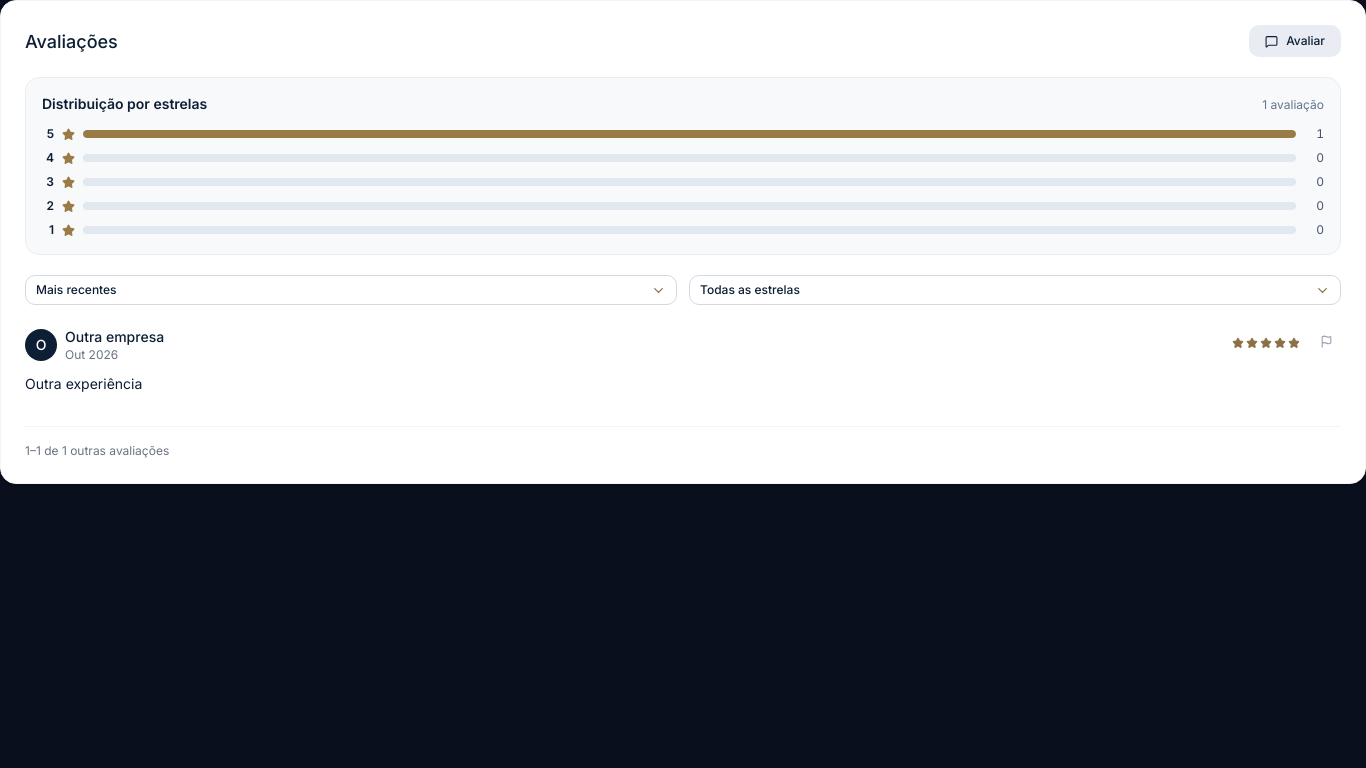
Test case: Aviso de avaliação a aguardar moderação no perfil público › se a lista falhar depois de uma avaliação sinalizada, o erro diz que a alteração foi concluída
Click the button "Avaliar" at (1295, 41), box [1249,25,1341,57]
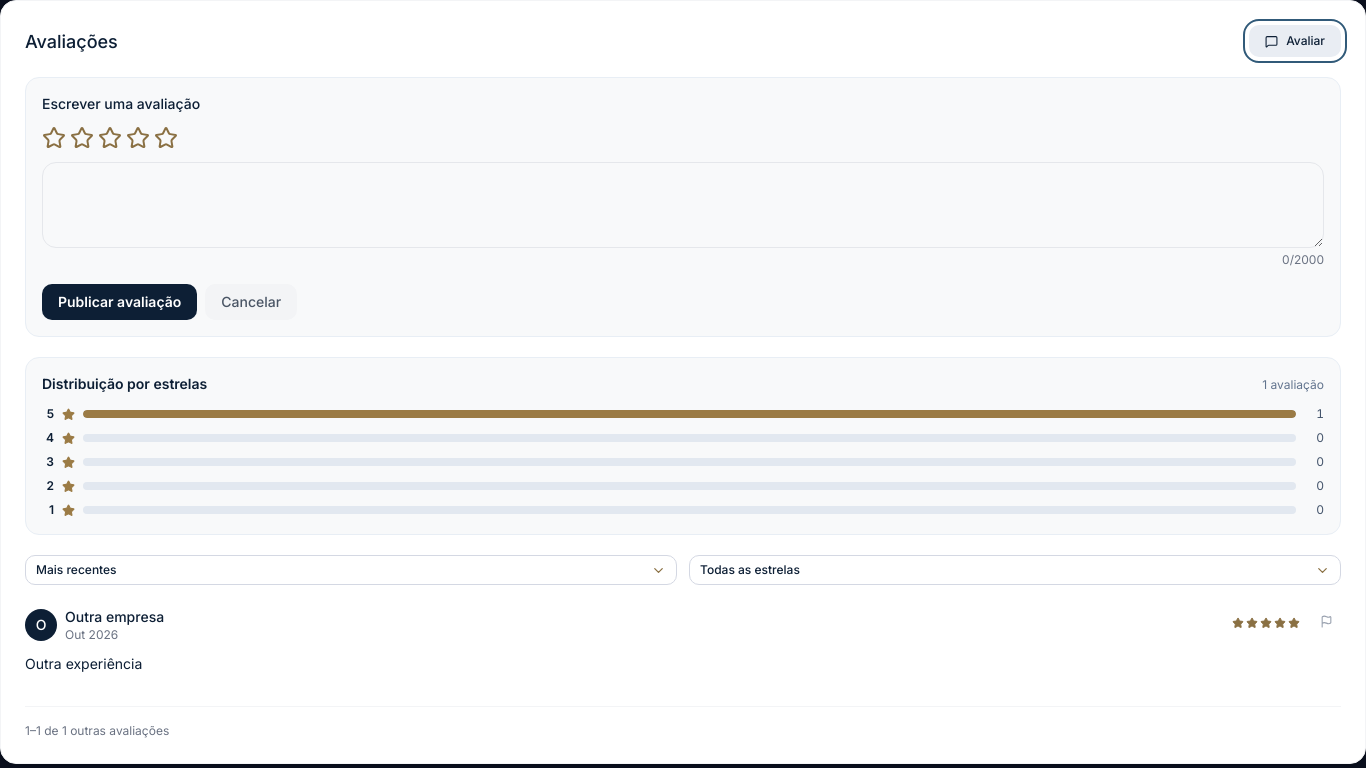
Click the radio button named "4 estrelas" at (138, 138), box [126,126,150,150]
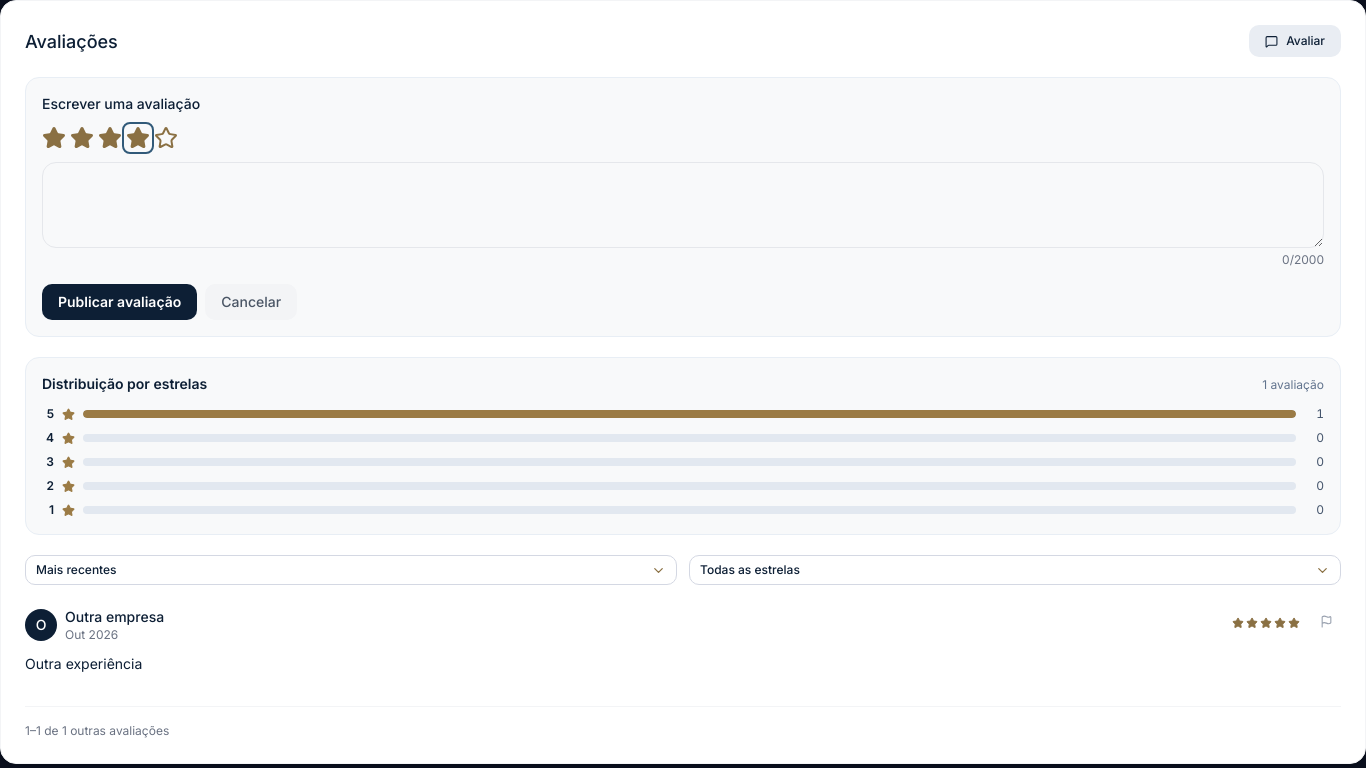
Type "Bom serviço" into the text box at (683, 205), box [42,162,1324,248]
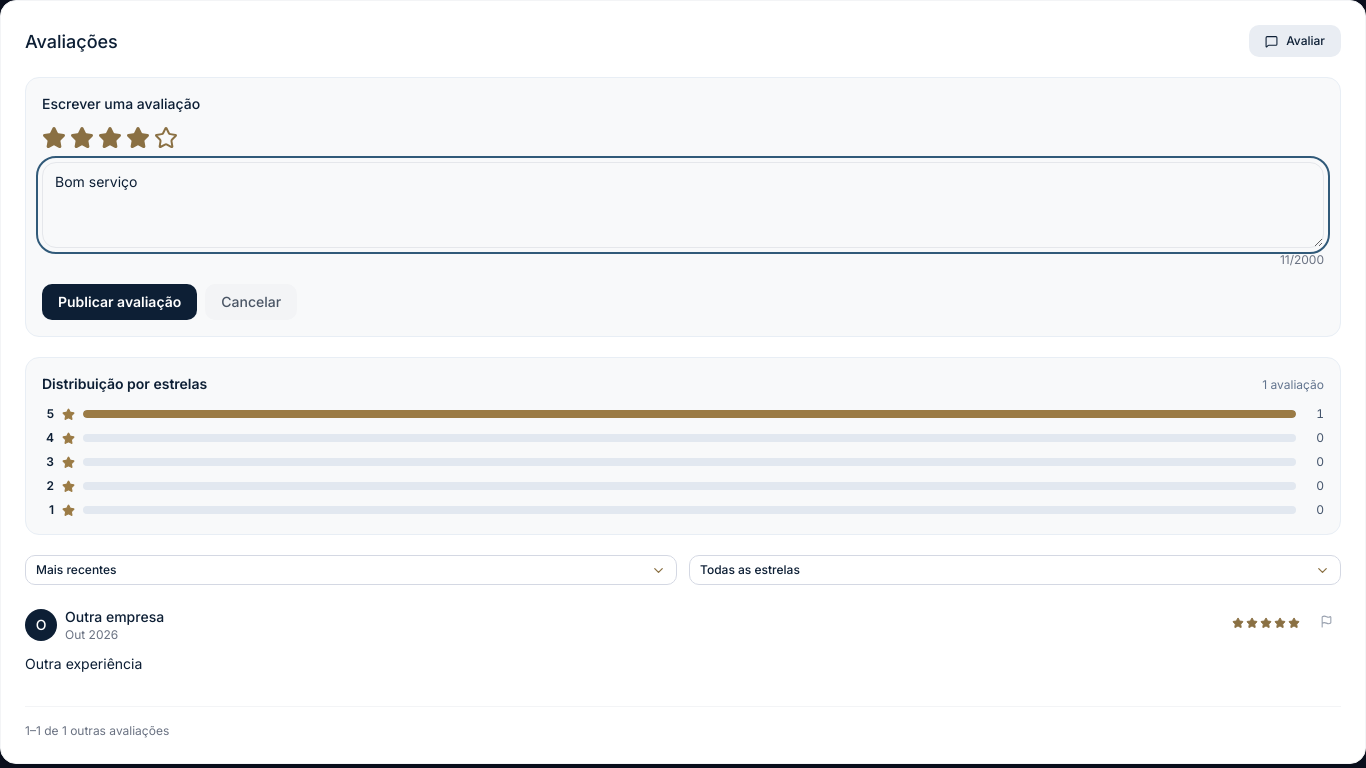
Click the button "Publicar avaliação" at (120, 302), box [42,284,197,320]
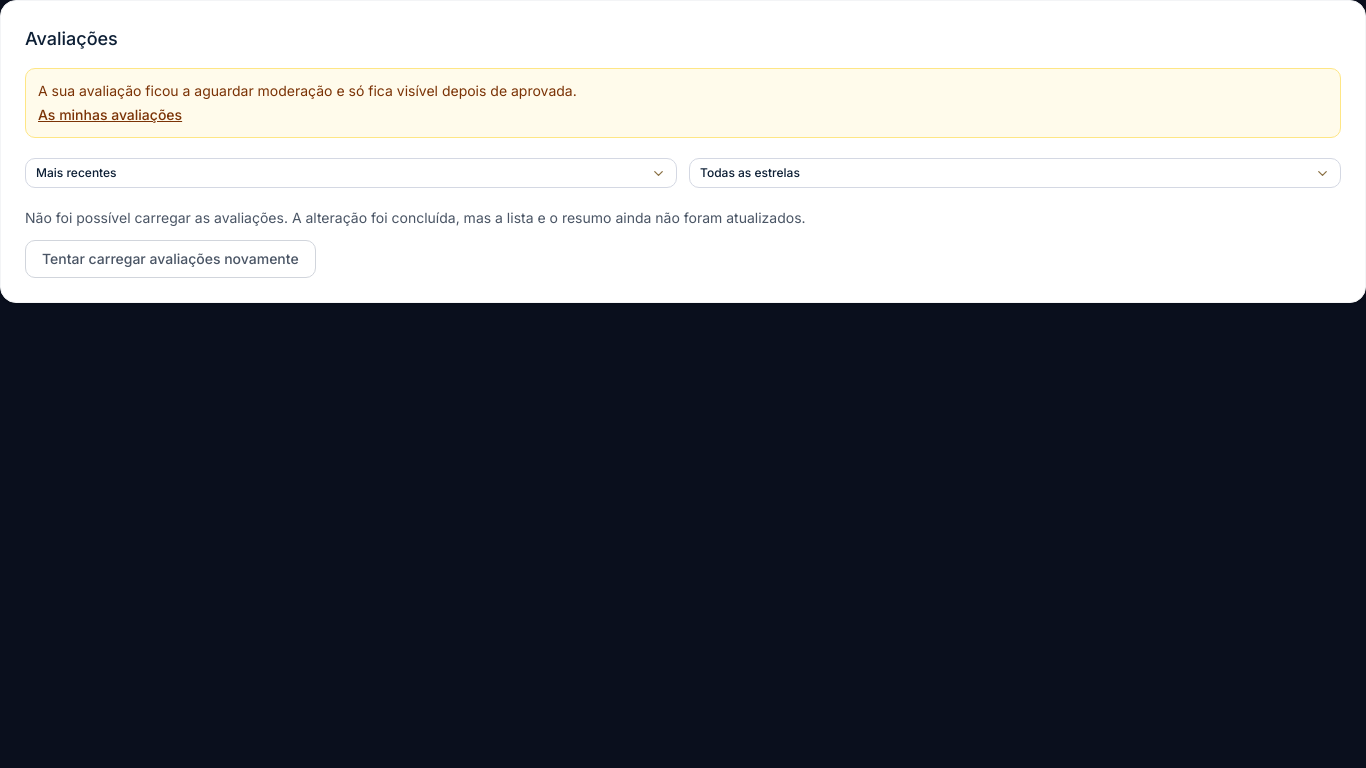
Check: the message that starts with "Não foi possível carregar as avaliações." shows "A alteração foi concluída, mas a lista e o resumo ainda não foram atualizados.", box [292,209,806,226]
Check: the text "A sua avaliação ficou a aguardar moderação e só fica visível depois de aprovada." is shown, box [38,82,577,99]
